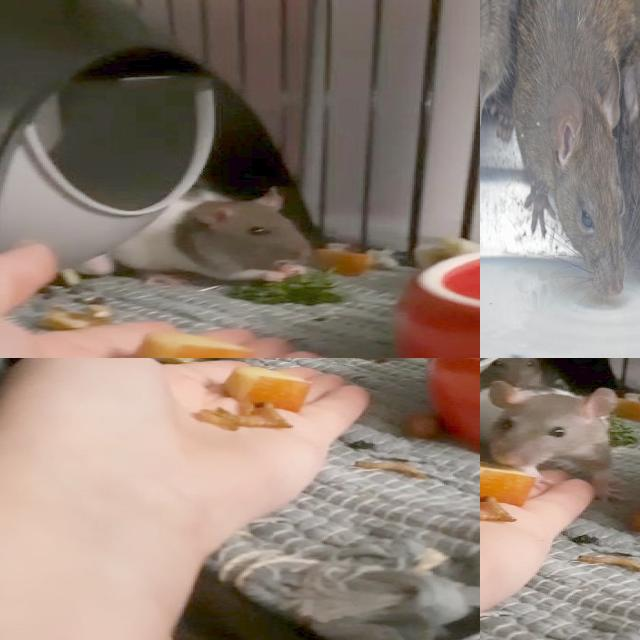rat: (510, 0, 633, 303), (112, 190, 314, 290), (480, 384, 626, 470), (480, 0, 539, 142), (480, 358, 553, 389)
